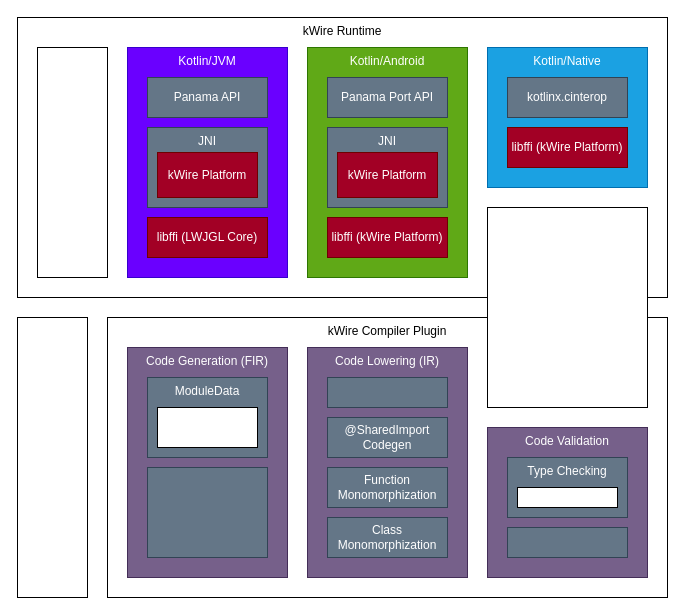
The diagram is 685 pixels wide and 615 high, and some of its shapes have lost their labels. Here are the shapes that lost their labels. From the top down, the centre of each, then its label:
(72,162): kWire Common API
(567,307): kWire ABI
(387,392): Intrinsics Codegen
(207,427): SymbolTable
(52,457): kWire Gradle Plugin
(207,512): Function Monomorphization Storage
(567,497): Constness
(567,542): Context Checking
